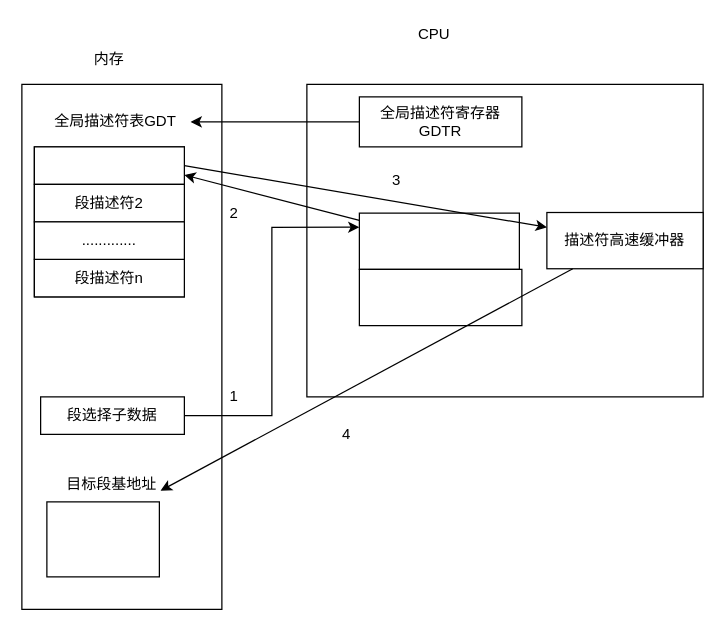
Some shapes in this 725 by 631 pixel diagram are drawn without their labels. Here are the shapes that lost their labels. From the top down, the centre of each, then its label:
point 108,165: 段描述符1
point 438,240: 段选择器 CS
point 440,297: 段选择器 DS
